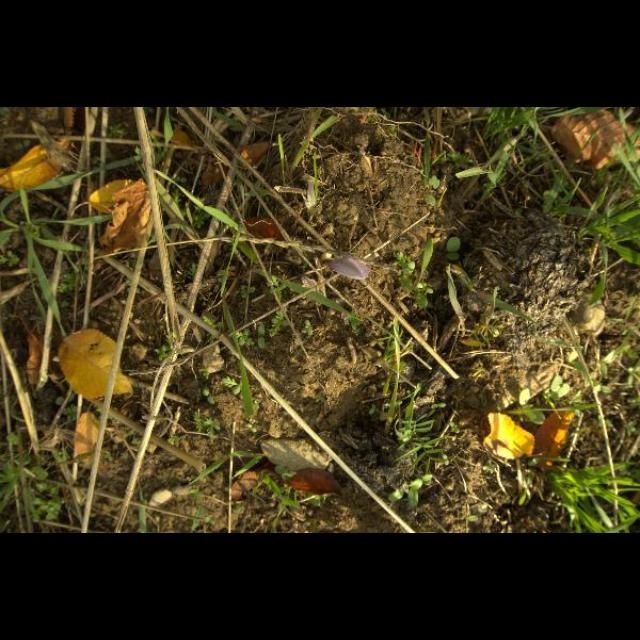flower: (328, 255, 370, 281)
